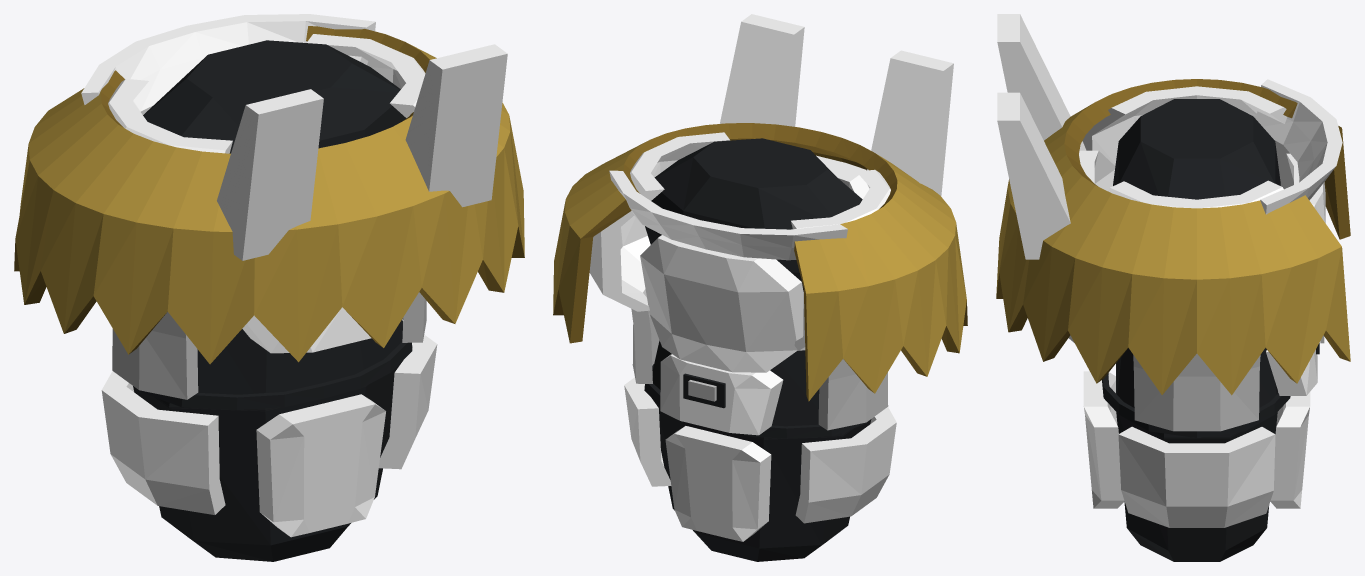
File: person_female_armor_cataphract_prestige.obj
3 views of the same model, side by side, from view 1: azimuth 30°, elevation 25°; view 2: azimuth 150°, elevation 25°; view 3: azimuth 270°, elevation 25° (orthographic). The views are drawn at different scales.
Visible parts, largest first — view 1: person_female_armor_cataphract_prestige, person_female_armor_cataphract_prestige_addons; view 2: person_female_armor_cataphract_prestige, person_female_armor_cataphract_prestige_addons; view 3: person_female_armor_cataphract_prestige, person_female_armor_cataphract_prestige_addons.
Part boxes in pixels (<box>): person_female_armor_cataphract_prestige: <box>81,14,507,561</box>; person_female_armor_cataphract_prestige_addons: <box>14,26,524,364</box>; person_female_armor_cataphract_prestige: <box>589,14,953,561</box>; person_female_armor_cataphract_prestige_addons: <box>553,123,967,401</box>; person_female_armor_cataphract_prestige: <box>997,14,1342,561</box>; person_female_armor_cataphract_prestige_addons: <box>996,79,1350,395</box>.
Bounding box in the file's own units: 0.7716 × 0.855 × 0.5897.
